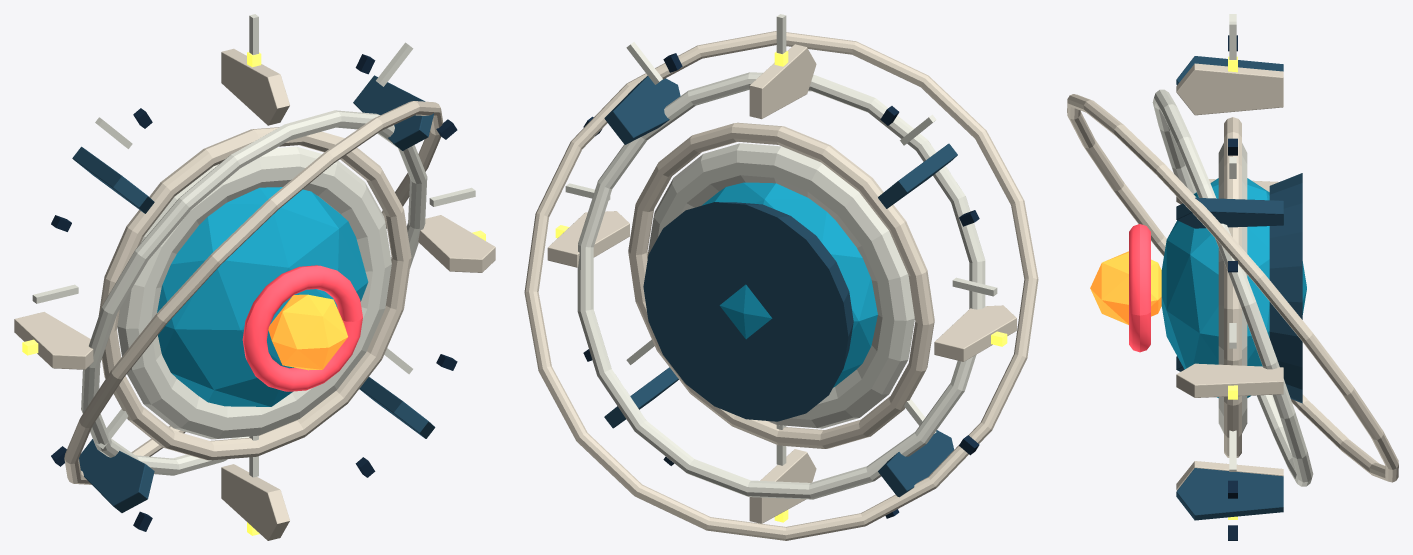
Rendered from prism-warden-medium.glb.
3 renders of one model, left to right at view 1: azimuth 30°, elevation 25°; view 2: azimuth 150°, elevation 25°; view 3: azimuth 270°, elevation 25°, orthographic. The views are drawn at different scales.
Visible parts, largest first — view 1: hull_static, porcelain_static, motion-lens, accent_static, telegraph_socket, exposed_core, dark_static, reward_static; view 2: hull_static, accent_static, porcelain_static, motion-lens, dark_static, reward_static; view 3: hull_static, accent_static, porcelain_static, motion-lens, telegraph_socket, exposed_core, dark_static.
Part boxes in pixels (left/top/right/bottom): hull_static: left=14, top=48, right=495, bottom=540; porcelain_static: left=32, top=14, right=475, bottom=477; motion-lens: left=157, top=187, right=368, bottom=406; accent_static: left=72, top=75, right=435, bottom=512; telegraph_socket: left=242, top=265, right=362, bottom=391; exposed_core: left=268, top=294, right=347, bottom=370; dark_static: left=51, top=54, right=457, bottom=531; reward_static: left=22, top=52, right=485, bottom=535; hull_static: left=524, top=31, right=1038, bottom=540; accent_static: left=604, top=75, right=957, bottom=497; porcelain_static: left=565, top=14, right=997, bottom=499; motion-lens: left=702, top=182, right=877, bottom=387; dark_static: left=583, top=53, right=979, bottom=518; reward_static: left=555, top=51, right=1007, bottom=522; hull_static: left=1067, top=63, right=1398, bottom=490; accent_static: left=1176, top=56, right=1302, bottom=520; porcelain_static: left=1152, top=14, right=1313, bottom=486; motion-lens: left=1161, top=178, right=1306, bottom=397; telegraph_socket: left=1129, top=224, right=1150, bottom=352; exposed_core: left=1090, top=251, right=1161, bottom=324; dark_static: left=1228, top=35, right=1237, bottom=540.
Bounding box in the file's own units: 3050 × 3285 × 1998.
